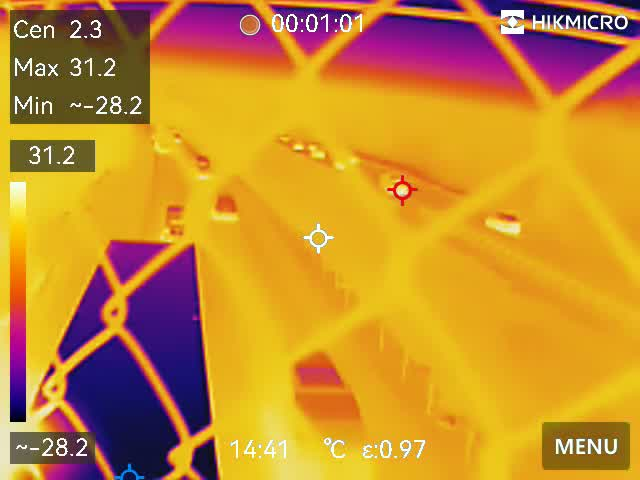heavyTruck: (28, 237, 228, 480)
vehicle: (160, 200, 189, 241), (484, 210, 523, 237), (213, 193, 241, 223), (194, 153, 217, 174), (310, 147, 323, 159)
